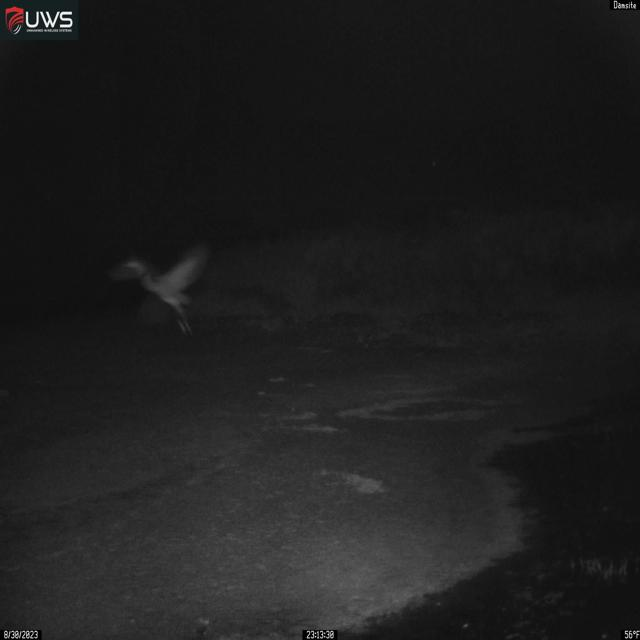bird: (106, 242, 212, 336)
